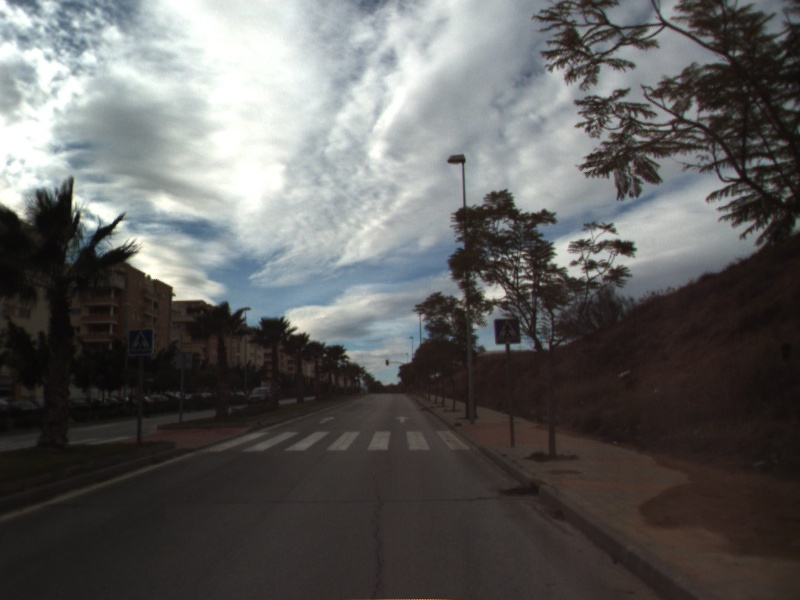STRAIGHT: (317, 414, 338, 426), (393, 414, 412, 425)
